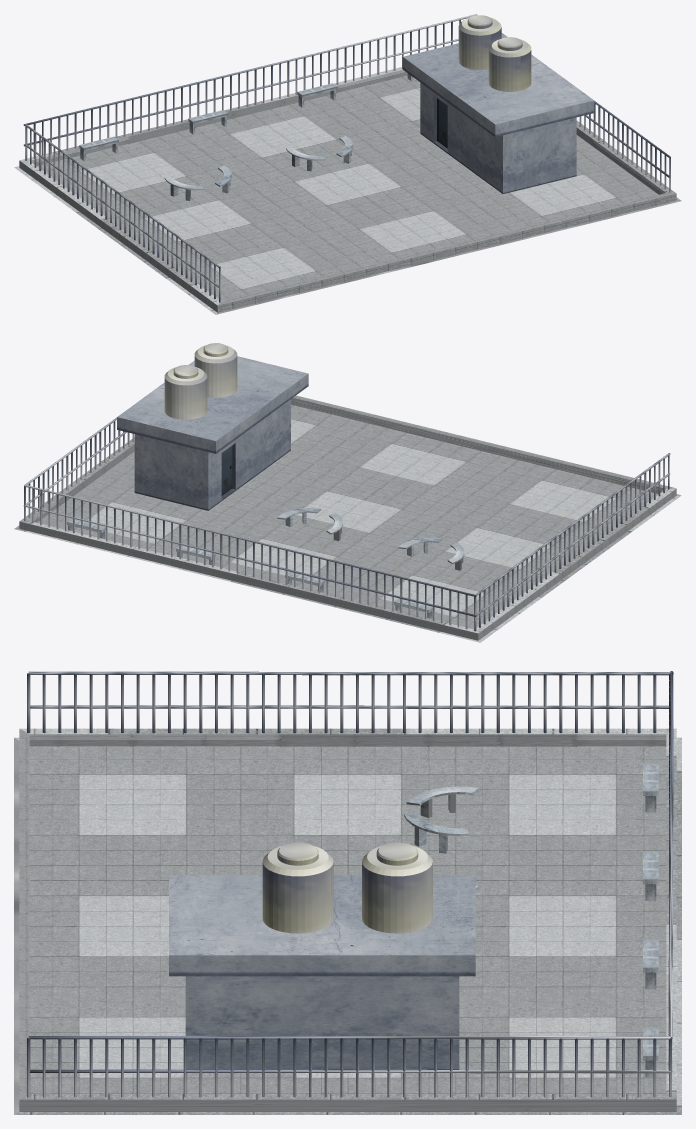
Rendered from rooftop.fbx.
The picture shows the model from 3 angles, top to bottom: view 1: azimuth 30°, elevation 25°; view 2: azimuth 150°, elevation 25°; view 3: azimuth 270°, elevation 25°; orthographic projection. The views are drawn at different scales.
Parts seen in each view (by area): view 1: School Building Floor, Room, School Building, Cylinder.002, Water Tank, Cylinder.005, Cylinder.004, Cylinder.003, Cube, Cylinder.006, Cylinder.001, Cube.002; view 2: School Building Floor, Room, School Building, Cylinder.002, Water Tank, Cylinder.005, Cylinder.004, Cylinder.003, Cube, Cylinder.006, Cylinder.001, Cube.002; view 3: School Building Floor, Room, School Building, Water Tank, Cylinder.003, Cylinder.005, Cylinder.001, Cylinder.006, Cube, Cylinder.004, Seat R, Seat L.
Part boxes in pixels (x1,y1,x2,y2): School Building Floor: (37, 76, 658, 301); Room: (402, 33, 594, 193); School Building: (14, 67, 681, 314); Cylinder.002: (26, 17, 468, 160); Water Tank: (458, 15, 531, 91); Cylinder.005: (25, 126, 220, 302); Cylinder.004: (23, 14, 476, 146); Cylinder.003: (579, 103, 670, 192); Cube: (79, 73, 413, 160); Cylinder.006: (25, 124, 219, 287); Cylinder.001: (476, 14, 669, 177); Cube.002: (437, 98, 447, 148); School Building Floor: (37, 404, 658, 629); Room: (117, 356, 308, 510); School Building: (14, 395, 681, 642); Cylinder.002: (25, 487, 474, 630); Water Tank: (164, 343, 237, 419); Cylinder.005: (474, 455, 669, 631); Cylinder.004: (24, 484, 477, 617); Cylinder.003: (24, 421, 134, 521); Cube: (66, 518, 432, 619); Cylinder.006: (475, 453, 670, 615); Cylinder.001: (23, 417, 126, 505); Cube.002: (221, 446, 232, 495); School Building Floor: (29, 746, 666, 1093); Room: (169, 875, 475, 1069); School Building: (14, 728, 681, 1114); Water Tank: (262, 842, 432, 933); Cylinder.003: (27, 1037, 671, 1097); Cylinder.005: (27, 673, 656, 733); Cylinder.001: (28, 1036, 670, 1073); Cylinder.006: (28, 671, 670, 708); Cube: (643, 762, 658, 1077); Cylinder.004: (668, 671, 673, 1071); Seat R: (406, 786, 478, 817); Seat L: (404, 814, 469, 853).
Size of the model in its own units: 11416 by 2848 by 8544.
